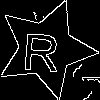R: (21, 24, 61, 72)
